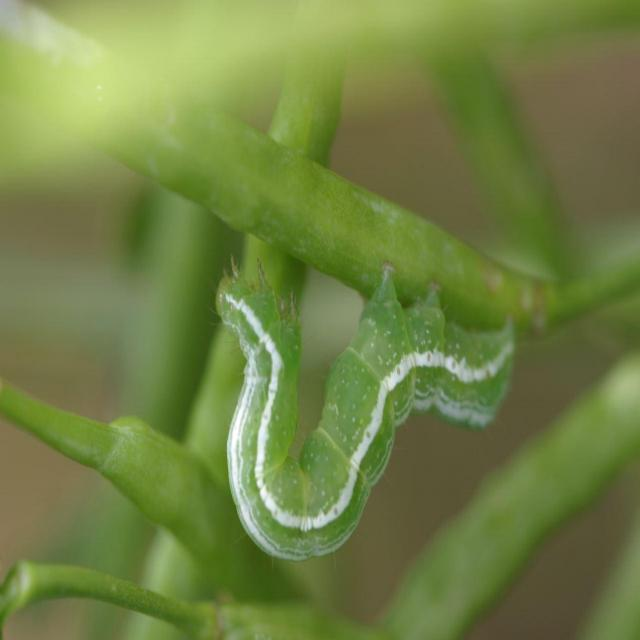looper: (205, 238, 521, 588)
